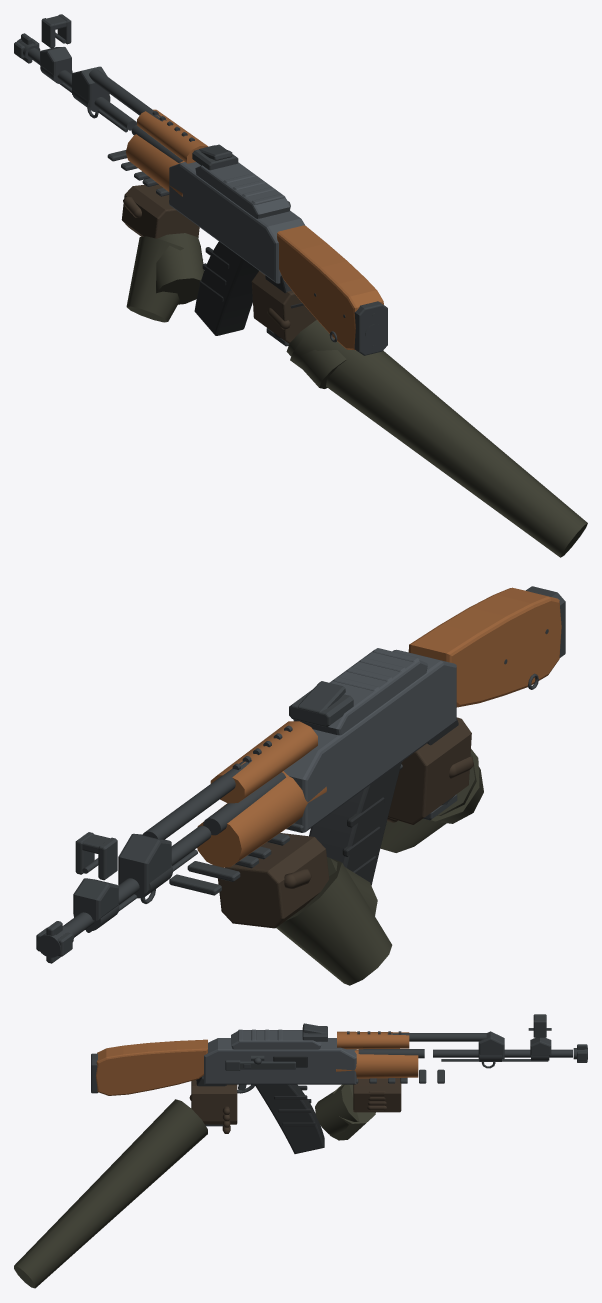
3 renders of one model, top to bottom at view 1: azimuth 30°, elevation 25°; view 2: azimuth 150°, elevation 25°; view 3: azimuth 270°, elevation 25°, orthographic. The views are drawn at different scales.
Parts seen in each view (by area): view 1: ak; view 2: ak; view 3: ak.
Boxes of the visible parts, x1,y1,x2,y2 form: ak: [14, 14, 587, 557]; ak: [36, 586, 565, 985]; ak: [14, 1014, 587, 1288].
Size of the model in its own units: 0.4683 by 0.5852 by 1.39.
